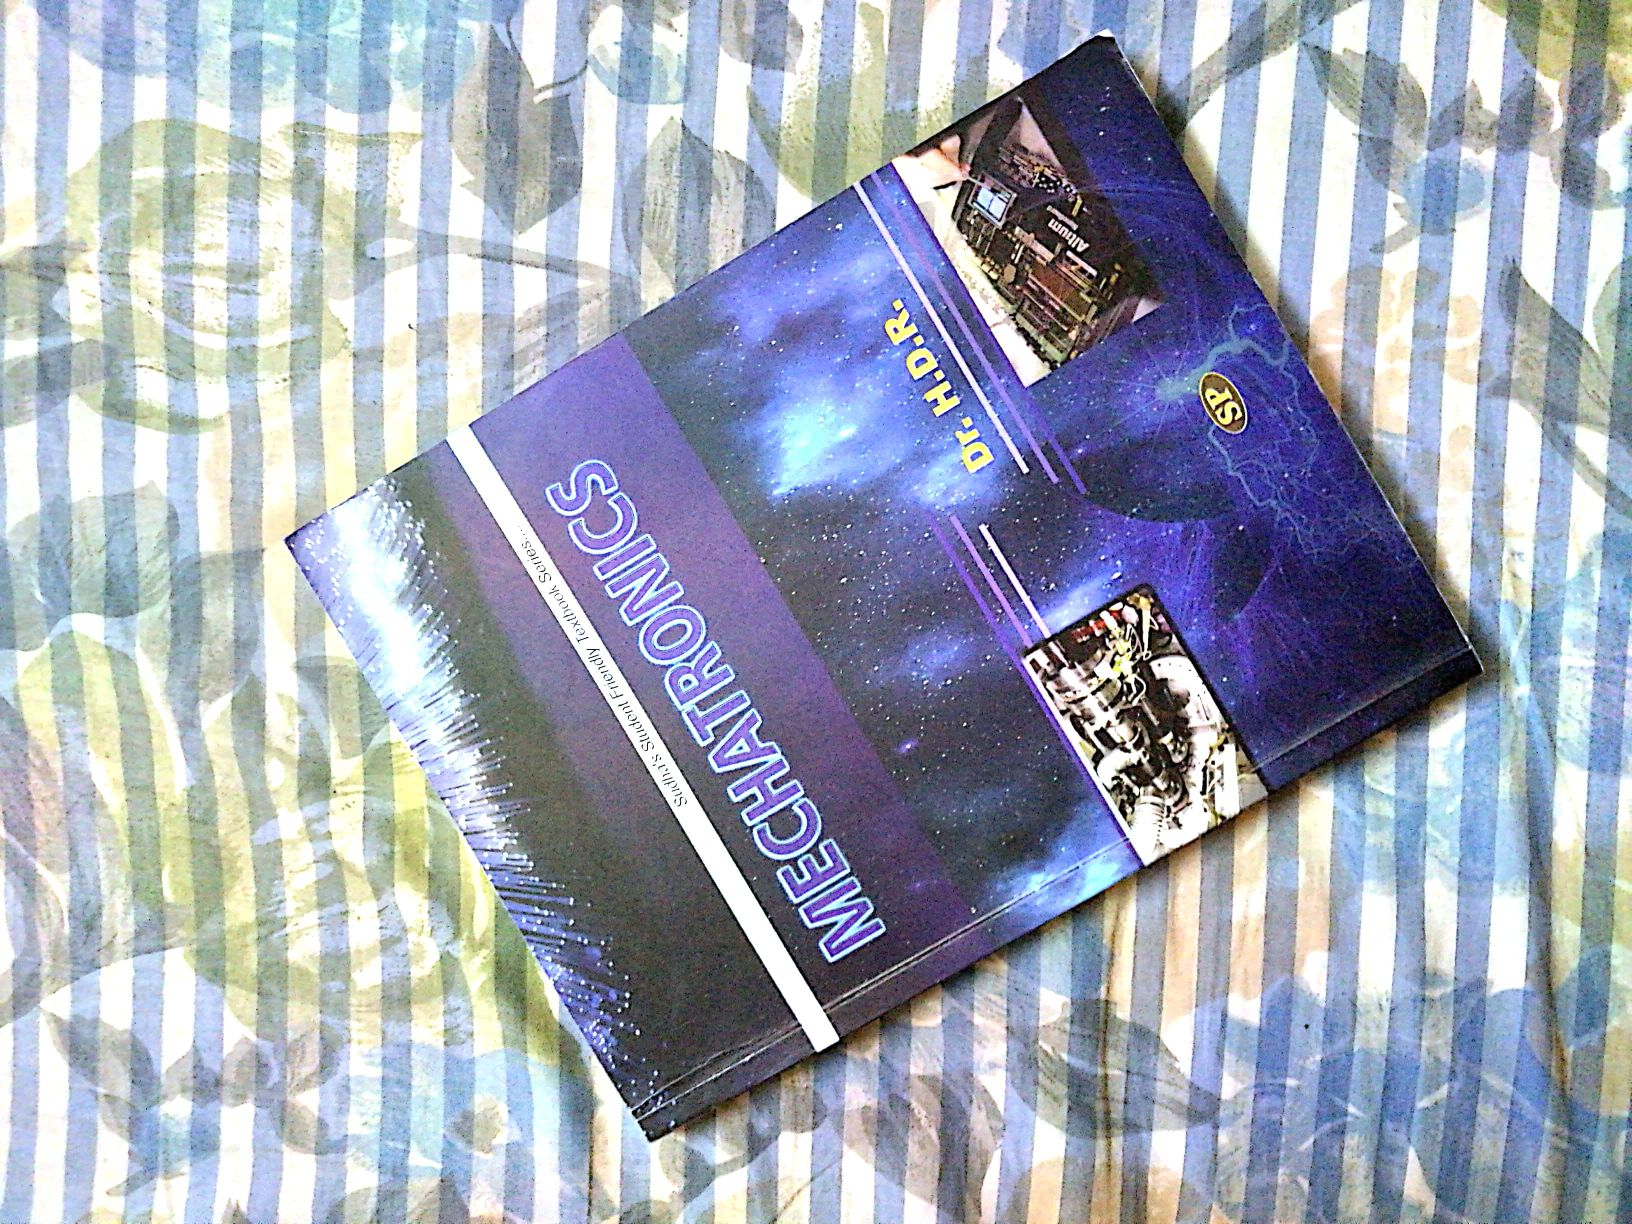mechatronics: (341, 90, 1421, 1041)
